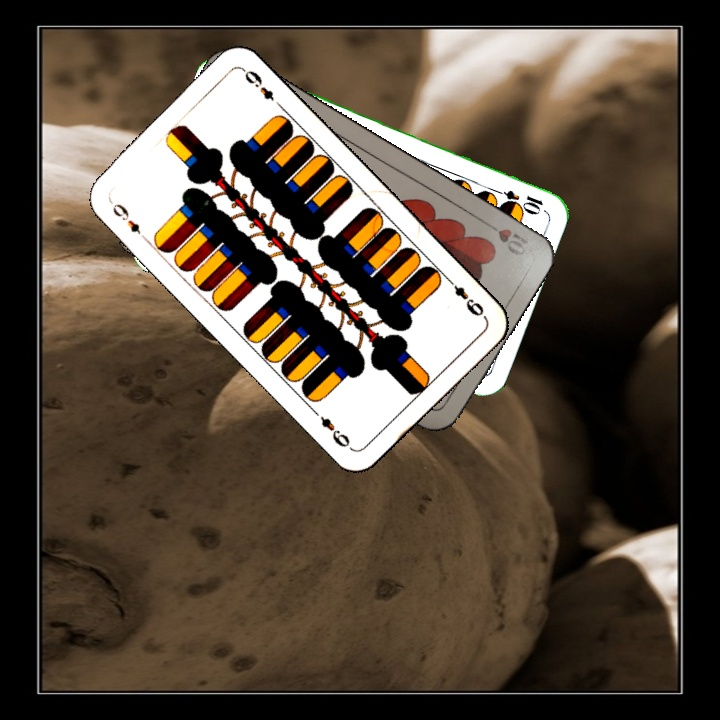E10: (487, 184, 546, 214)
E9: (442, 273, 487, 319), (106, 197, 144, 237)
H10: (479, 216, 533, 260)
